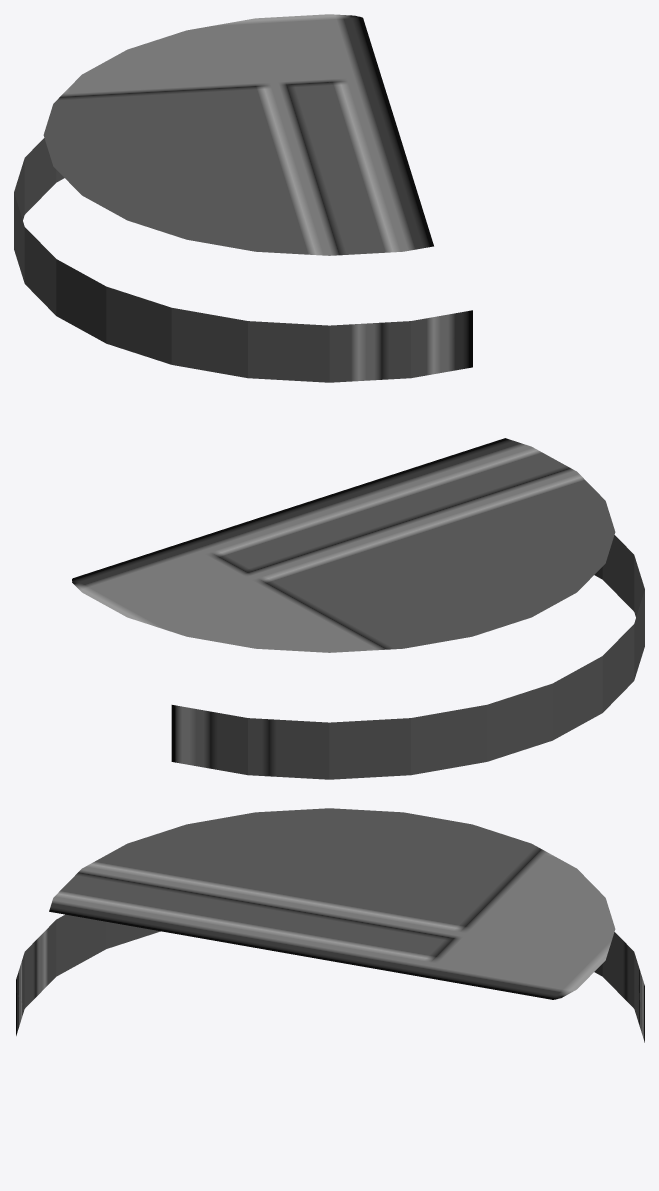
The model's file is warp_pad.obj.
3 renders of one model, top to bottom at view 1: azimuth 30°, elevation 25°; view 2: azimuth 150°, elevation 25°; view 3: azimuth 270°, elevation 25°, orthographic.
Parts seen in each view (by area): view 1: Object.1; view 2: Object.1; view 3: Object.1.
Boxes of the visible parts, bbox=[...] form: Object.1: bbox=[14, 14, 472, 382]; Object.1: bbox=[72, 438, 644, 779]; Object.1: bbox=[16, 808, 644, 1042].
Size of the model in its own units: 2.97 by 0.5932 by 2.97.
